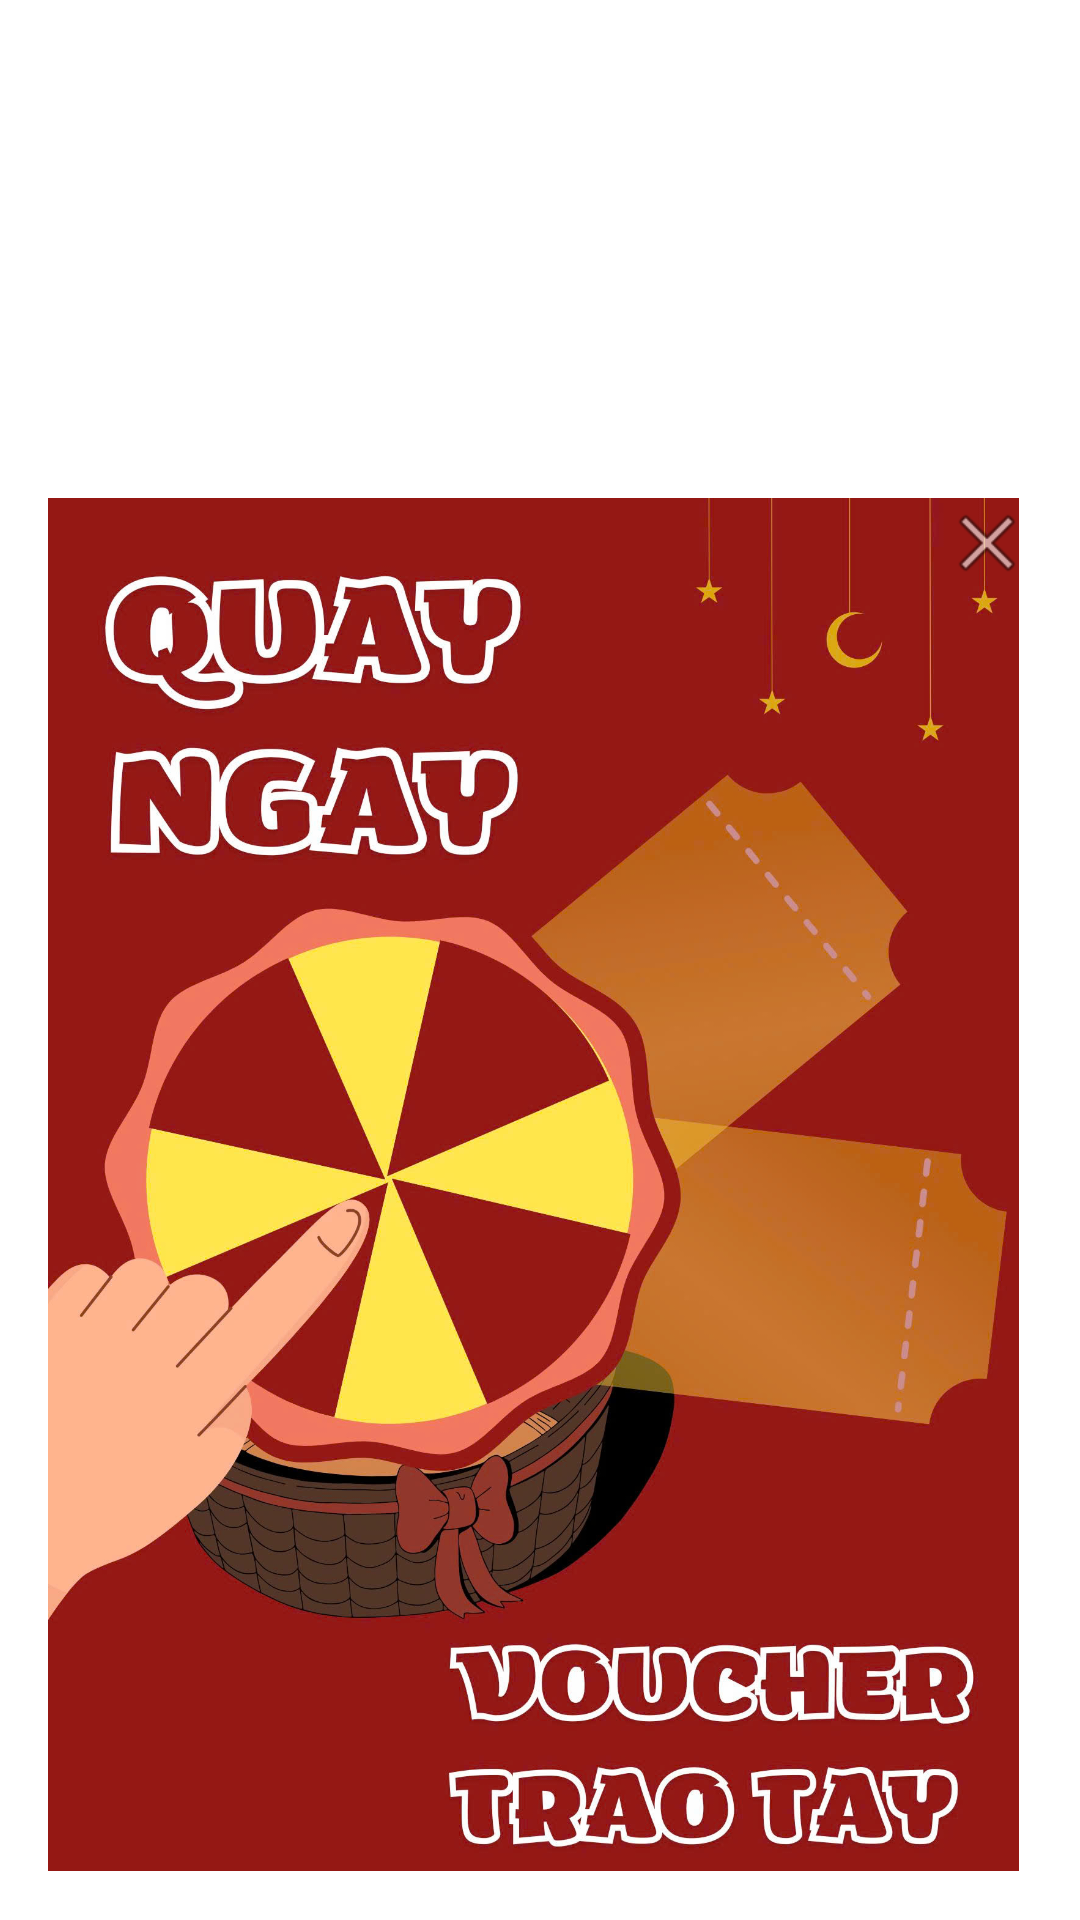

Icon click points for this 1080 x 1920 phone screenshot, format (x=x, y=y):
Đóng quảng cáo: (x=987, y=543)
